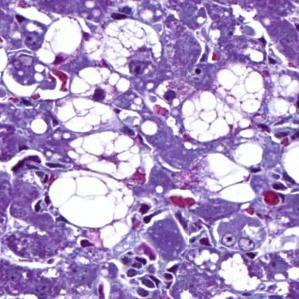ballooning: (179, 61, 270, 144), (45, 167, 135, 234), (68, 126, 144, 179), (99, 17, 165, 78), (32, 12, 90, 69), (67, 62, 132, 104), (53, 94, 117, 135)
